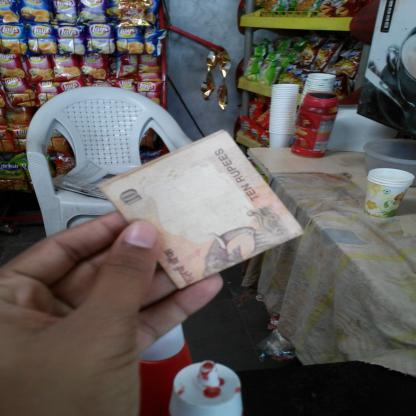Old10Back: (92, 129, 305, 291)
